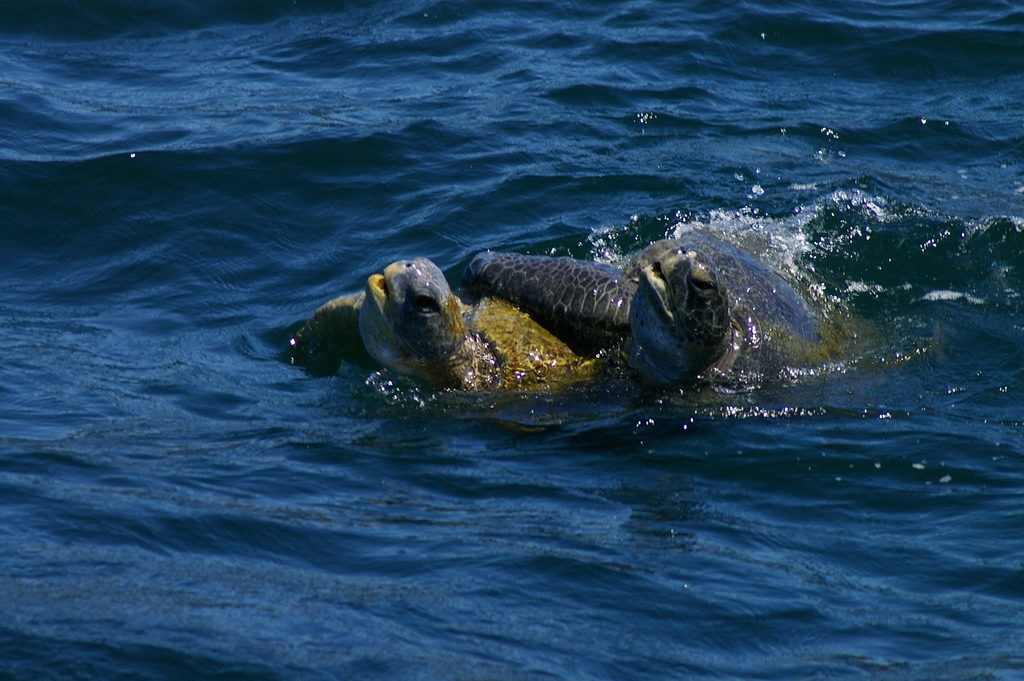Sea turtles: (460, 224, 924, 405), (286, 257, 603, 396)
